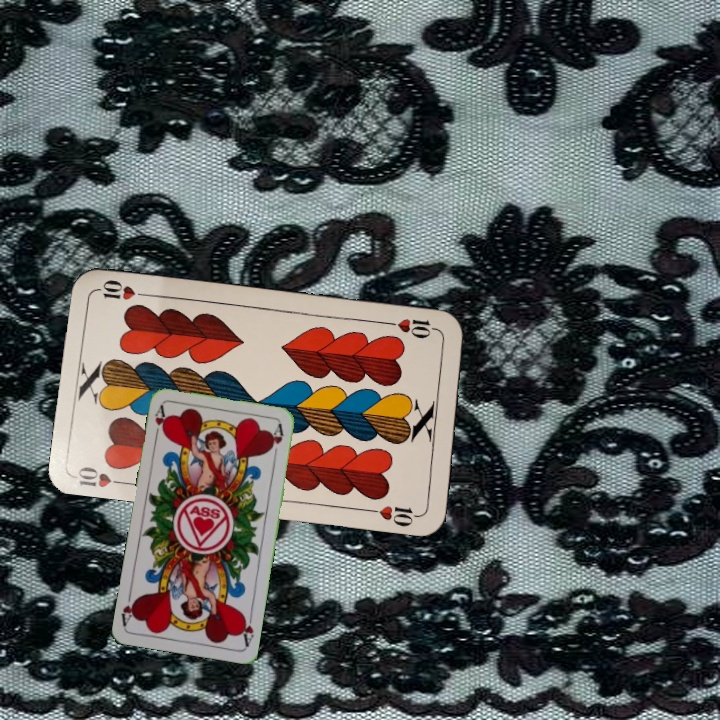H10: (72, 462, 131, 490), (383, 314, 442, 341)
HA: (236, 608, 256, 648), (151, 402, 170, 442)
